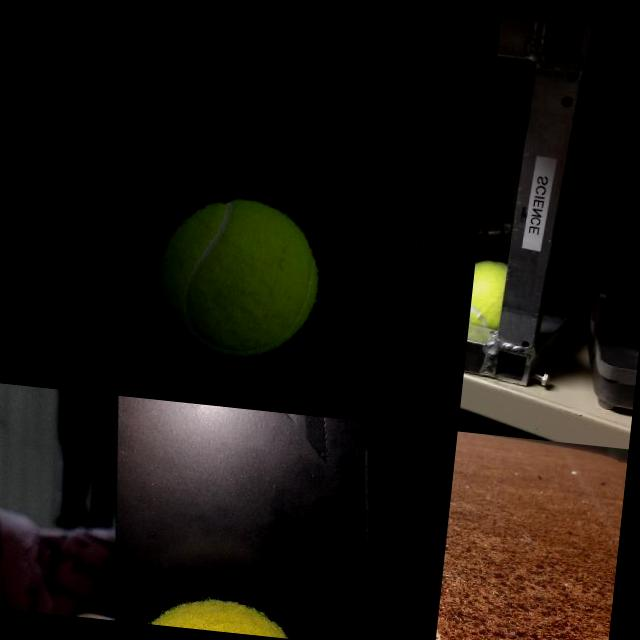Tennis Ball: (150, 191, 327, 364), (470, 258, 506, 325)
